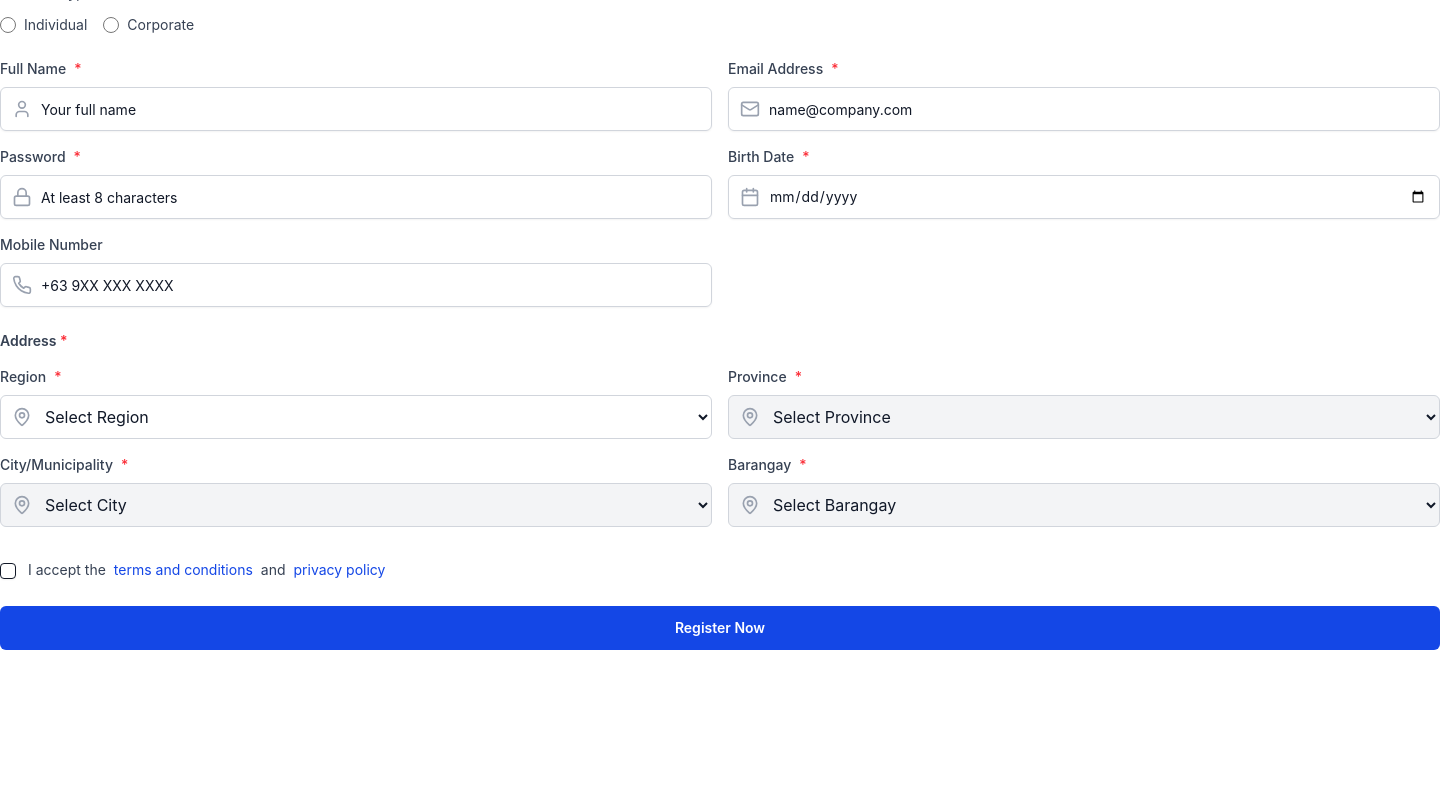
Registration Form Component - TEST SUITE 5 › Test 2: Corporate Account Form Rendering › should show 4 document upload inputs for corporate account
Step 1. Click the radio button labelled "Corporate" → [111, 25], box [103,17,119,33]
(page scrolled)
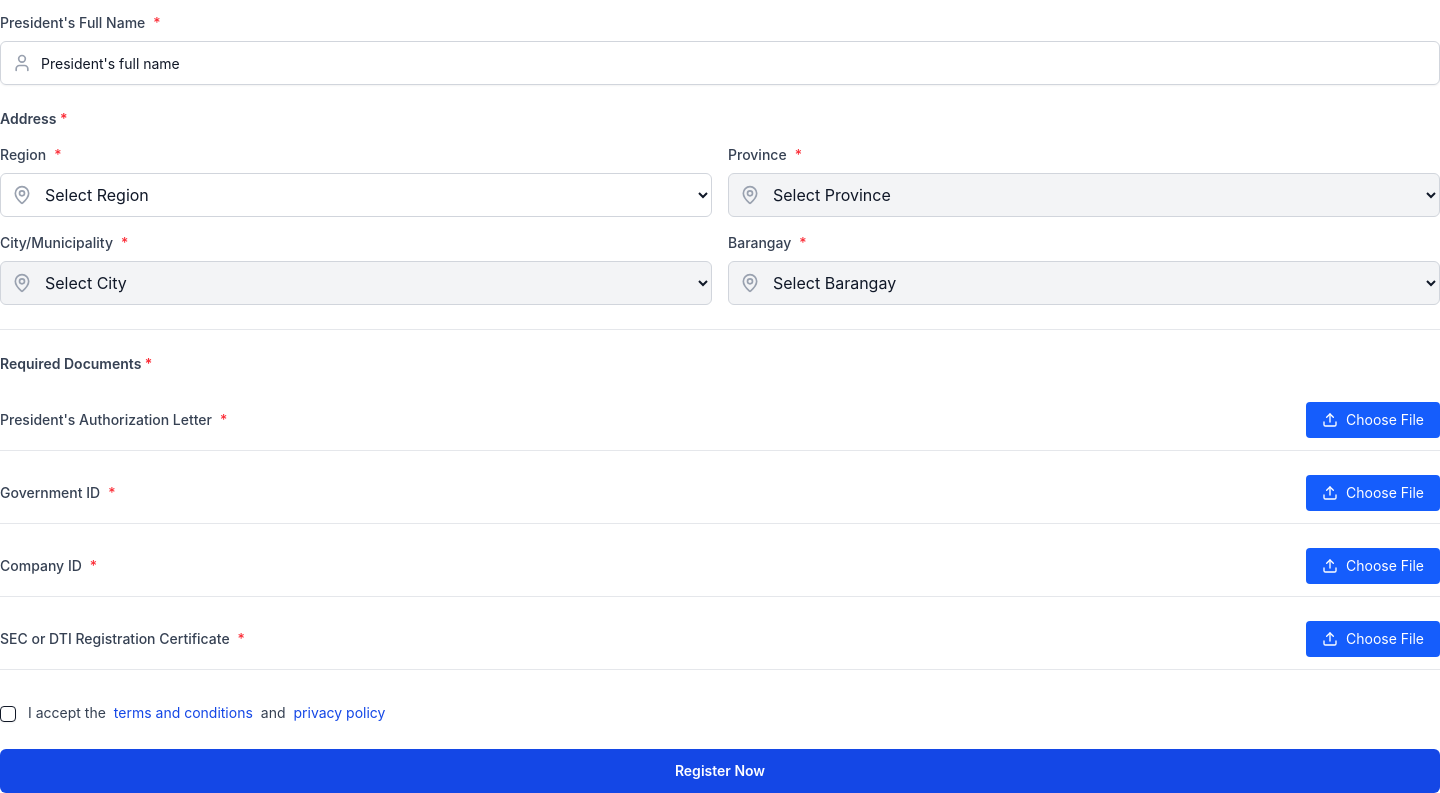
Expected: the text "President's Authorization Letter *" is shown, [0,411,227,428]
Expected: the text "Government ID *" is shown, [0,484,116,501]
Expected: the text "Company ID *" is shown, [0,557,97,574]
